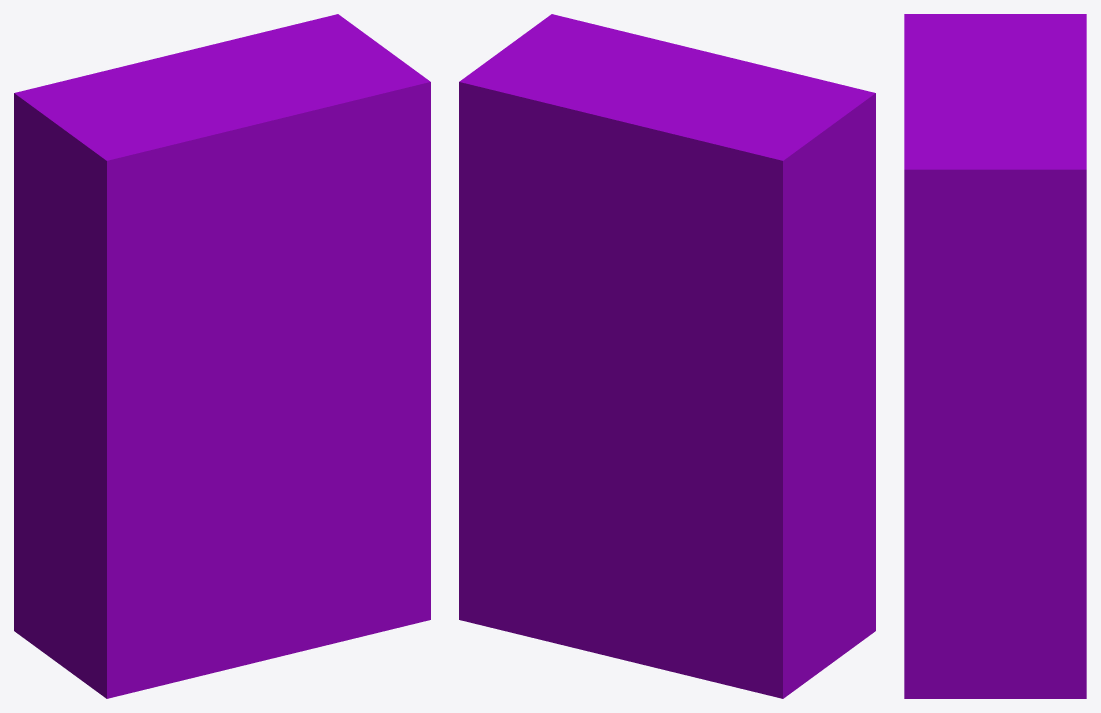
The picture shows the model from 3 angles, left to right: view 1: azimuth 30°, elevation 25°; view 2: azimuth 150°, elevation 25°; view 3: azimuth 270°, elevation 25°; orthographic projection.
Size of the model in its own units: 0.2852 by 0.4525 by 0.1413.
